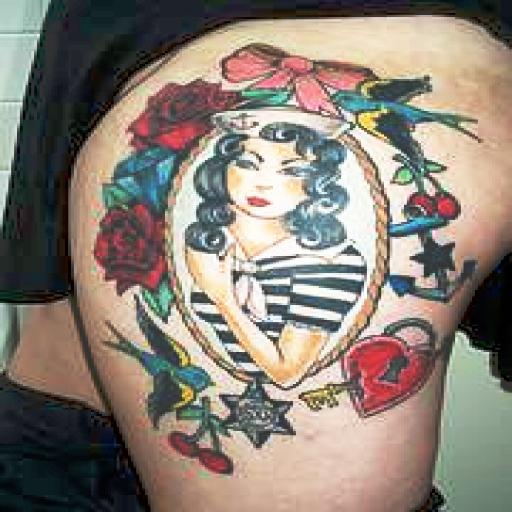rose: (125, 79, 245, 147), (88, 207, 165, 290)
